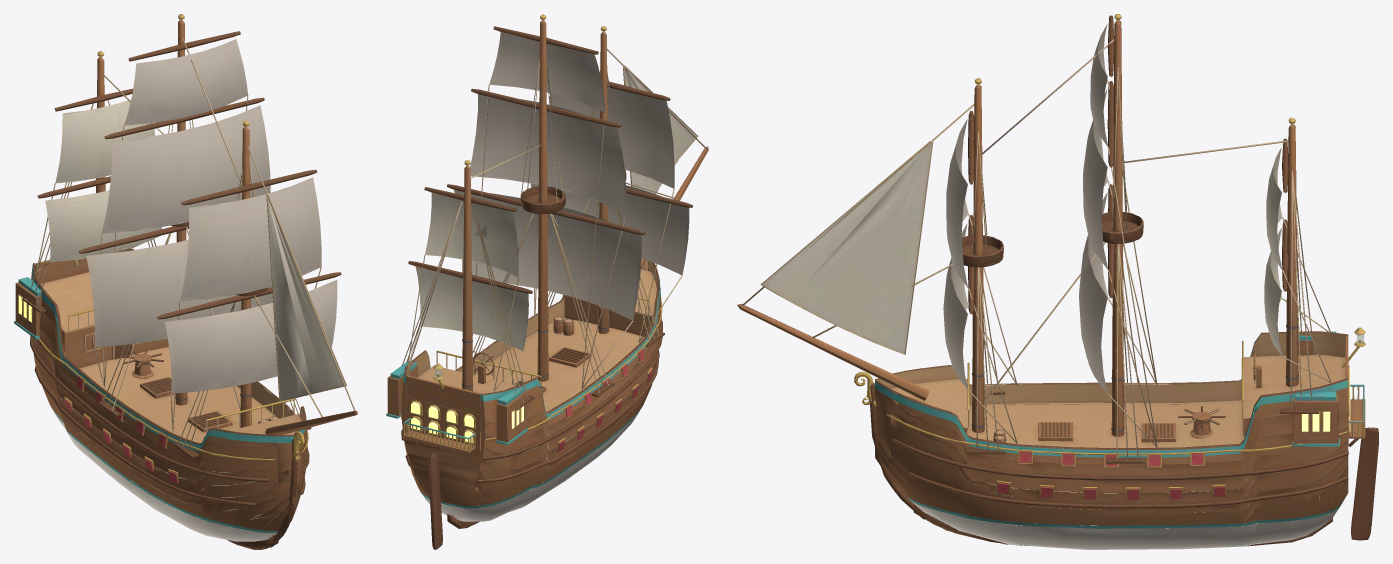
File: galeon.glb
The picture shows the model from 3 angles, left to right: view 1: azimuth 30°, elevation 25°; view 2: azimuth 150°, elevation 25°; view 3: azimuth 270°, elevation 25°; orthographic projection. The views are drawn at different scales.
Visible parts, largest first — view 1: galleon_body; view 2: galleon_body; view 3: galleon_body.
Boxes of the visible parts, x1,y1,x2,y2 form: galleon_body: (14,14,357,549); galleon_body: (386,14,708,549); galleon_body: (737,14,1378,549).
Bounding box in the file's own units: 12.2 × 27.35 × 29.85.
5 materials, 1 textured.
